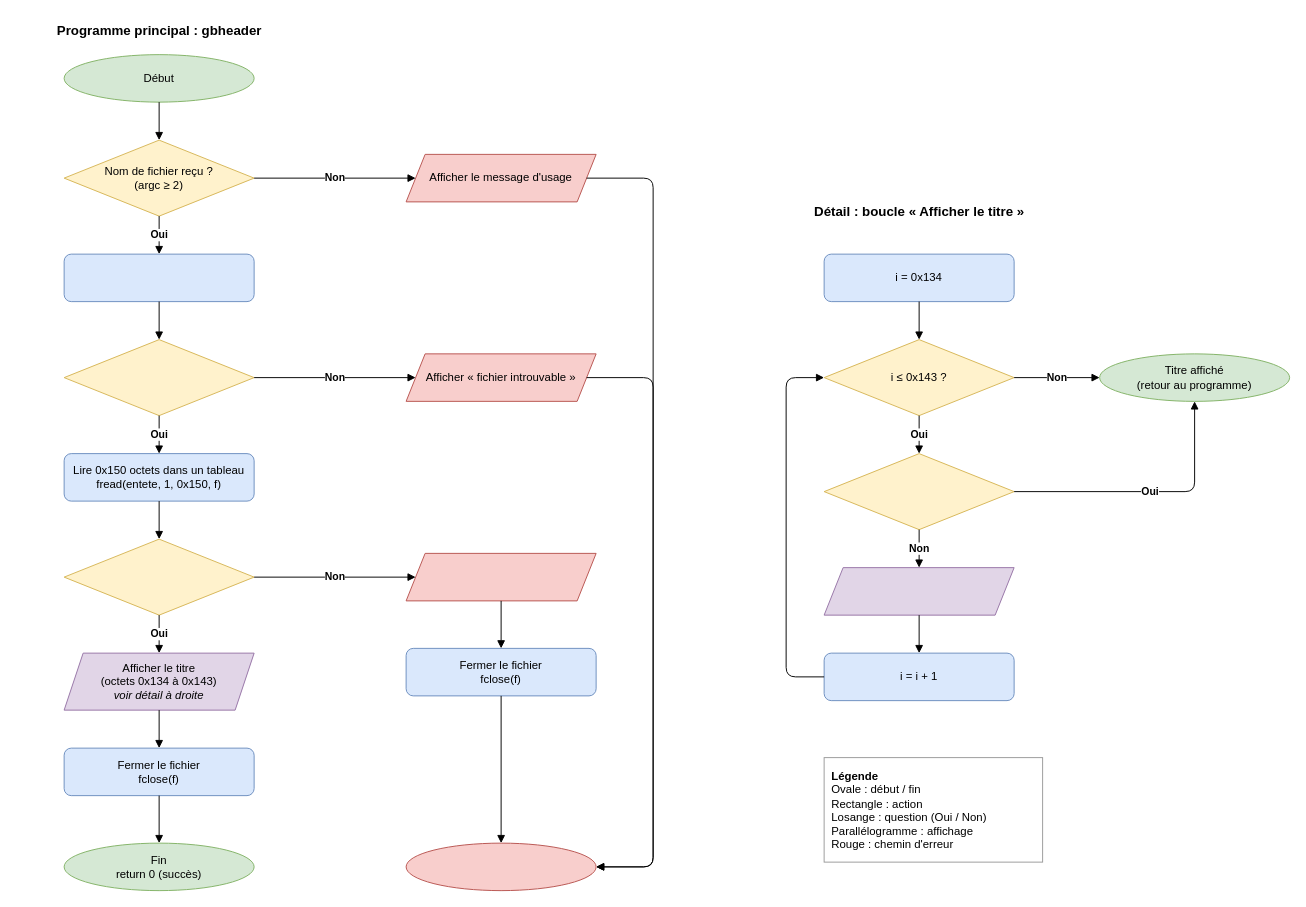
This 1306x907 diagram has some shape labels left out. Each missing label, with the centre of its shape:
0x150 octets bien lus ?: point (158, 576)
Afficher entete[i] printf("%c", ...): point (918, 591)
Afficher « fichier trop petit »: point (500, 576)
entete[i] == 0 ? (fin du titre): point (918, 491)
Fichier ouvert ? (f != NULL): point (158, 377)
Fin return 1 (erreur): point (500, 866)
Ouvrir le fichier fopen(argv[1], "rb"): point (158, 277)
